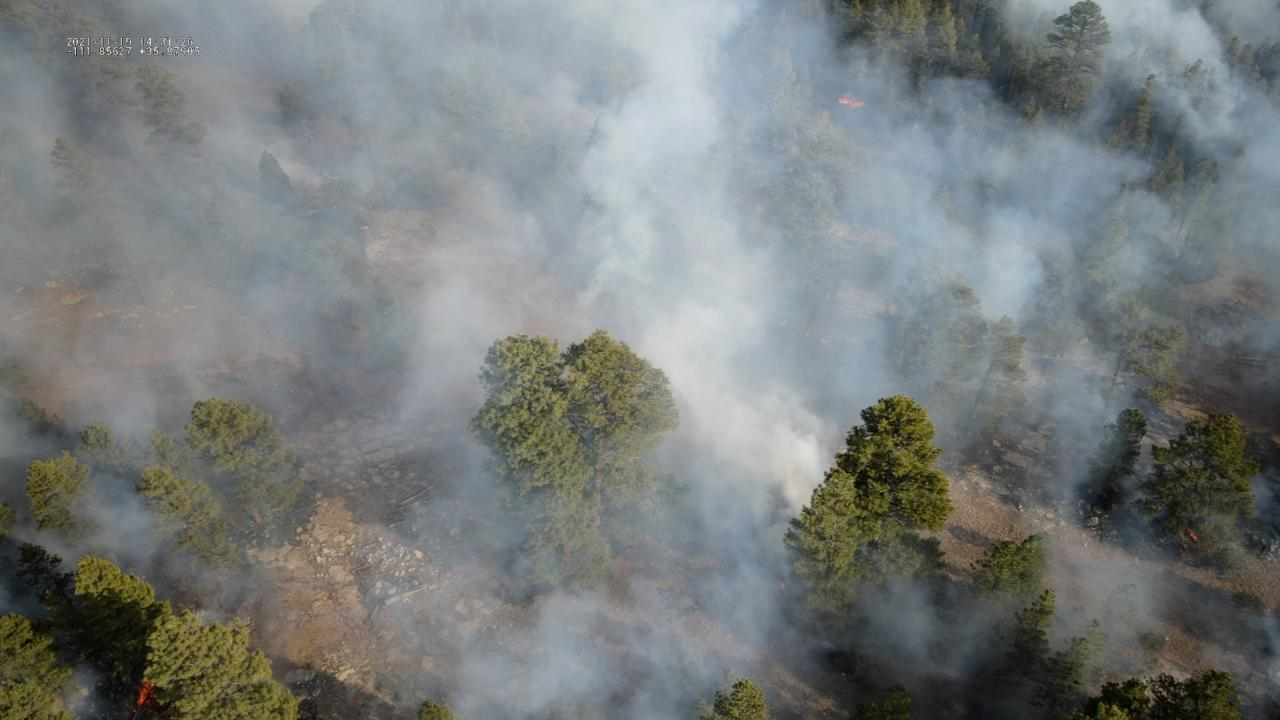fire: (134, 681, 158, 709), (835, 94, 868, 113), (1187, 529, 1202, 544)
smoke: (0, 0, 1280, 720)
